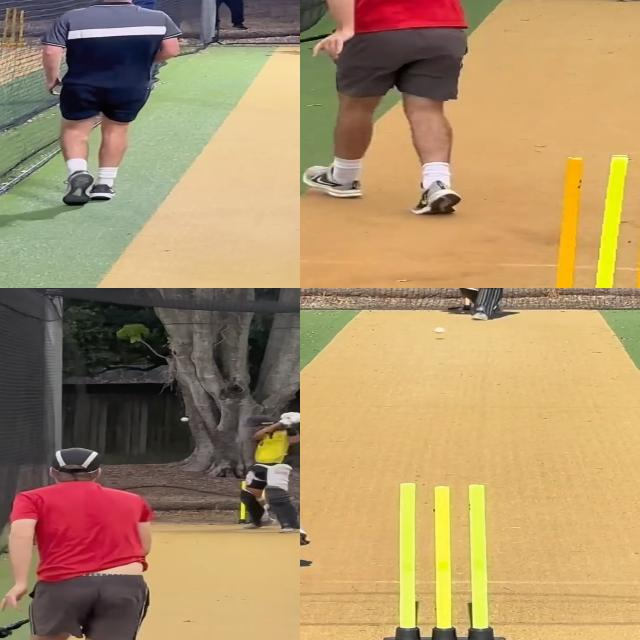Cricket ball: (432, 325, 447, 335), (180, 416, 190, 423)
Stumps: (380, 480, 509, 640), (555, 154, 640, 288)
